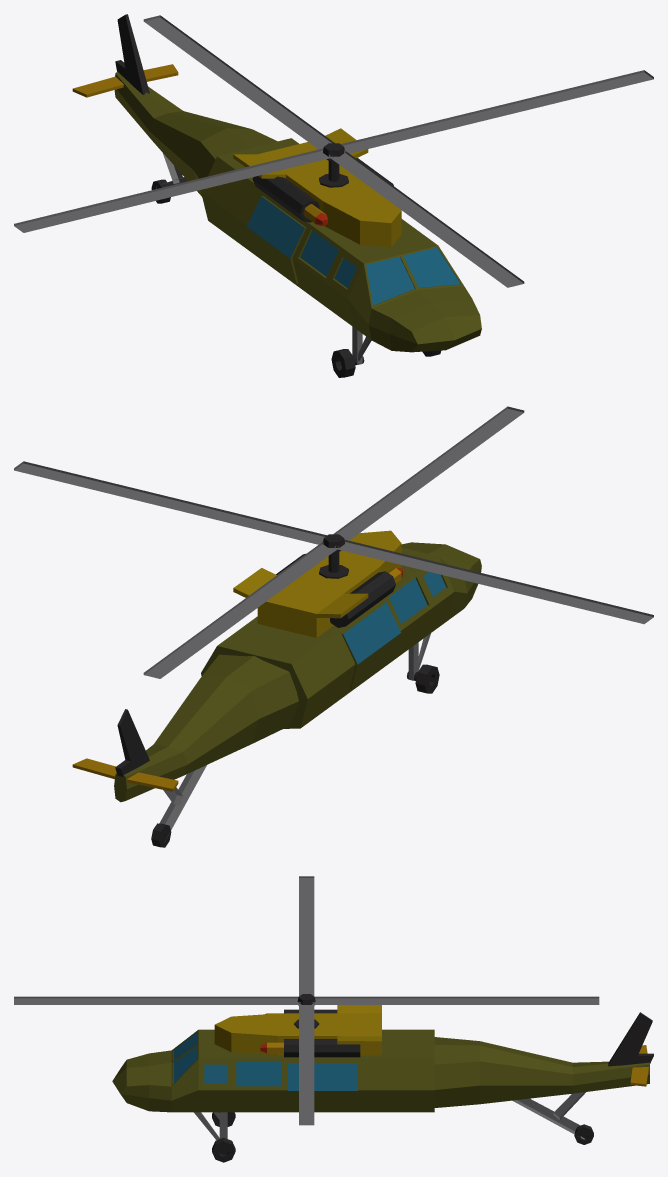
File: helicopter.glb
The picture shows the model from 3 angles, top to bottom: view 1: azimuth 30°, elevation 25°; view 2: azimuth 150°, elevation 25°; view 3: azimuth 270°, elevation 25°; orthographic projection. The views are drawn at different scales.
Parts seen in each view (by area): view 1: AirCraft; view 2: AirCraft; view 3: AirCraft.
Part boxes in pixels (x1,y1,x2,y2): AirCraft: (14, 14, 653, 377); AirCraft: (14, 406, 653, 847); AirCraft: (14, 876, 653, 1162).
Bounding box in the file's own units: 41.34 × 11.41 × 45.2.
1 material, 1 textured.
